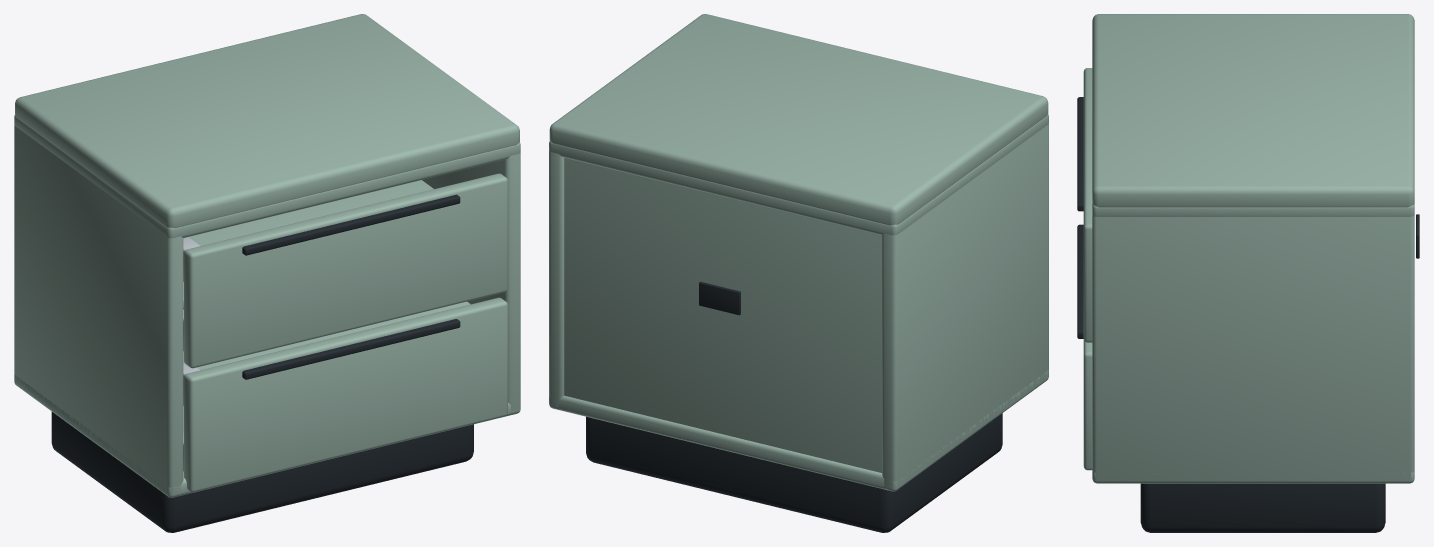
File: modern-bedside-drawer.glb
3 renders of one model, left to right at view 1: azimuth 30°, elevation 25°; view 2: azimuth 150°, elevation 25°; view 3: azimuth 270°, elevation 25°, orthographic. The views are drawn at different scales.
Parts seen in each view (by area): view 1: modern-bedside-drawer; view 2: modern-bedside-drawer; view 3: modern-bedside-drawer.
Part boxes in pixels (x1=…): modern-bedside-drawer: x1=14, y1=14, x2=520, y2=532; modern-bedside-drawer: x1=549, y1=14, x2=1048, y2=532; modern-bedside-drawer: x1=1077, y1=14, x2=1419, y2=532.
Size of the model in its own units: 0.55 by 0.52 by 0.45.
